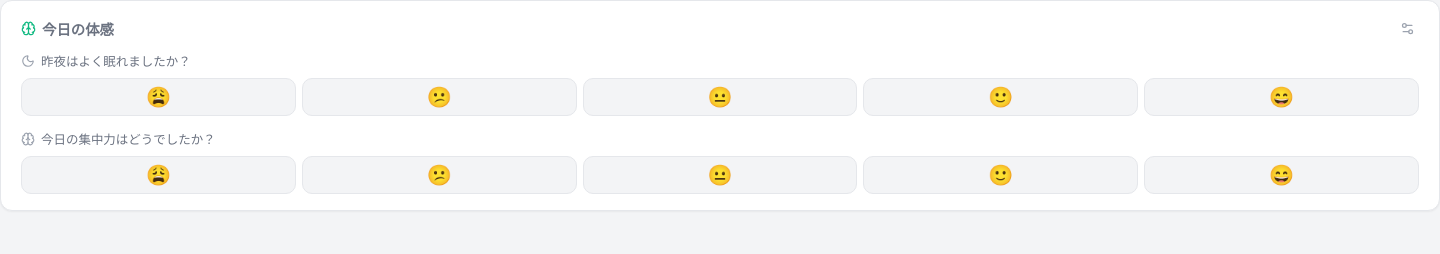
Test: ConditionCheckIn › rolls back the selection and warns when the save fails
Click the radio button named "よい": (1001, 97) [863,78,1138,116]
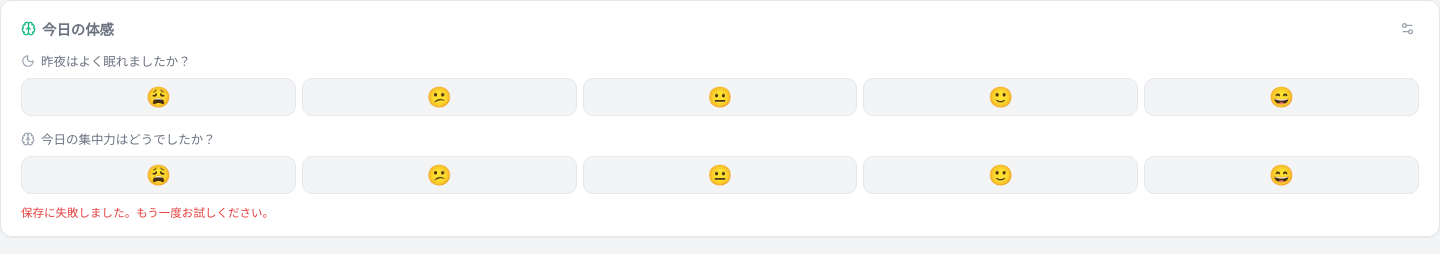
Expected: the message shows "保存に失敗しました", [21,206,274,220]
